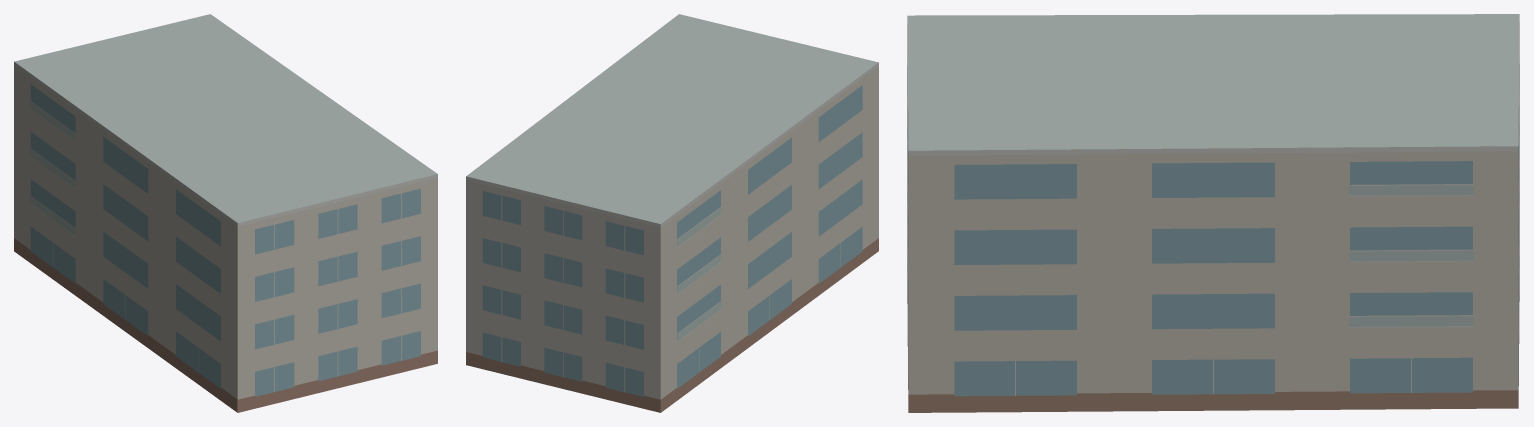
File: survey-upis-33004319.glb
3 renders of one model, left to right at view 1: azimuth 30°, elevation 25°; view 2: azimuth 150°, elevation 25°; view 3: azimuth 270°, elevation 25°, orthographic. The views are drawn at different scales.
Parts seen in each view (by area): view 1: survey-upis-33004319.tmp; view 2: survey-upis-33004319.tmp; view 3: survey-upis-33004319.tmp.
Part boxes in pixels (bbox=[...]): survey-upis-33004319.tmp: bbox=[14, 14, 437, 412]; survey-upis-33004319.tmp: bbox=[466, 14, 878, 412]; survey-upis-33004319.tmp: bbox=[907, 14, 1519, 412].
Bounding box in the file's own units: 14.06 × 12.55 × 26.56.
